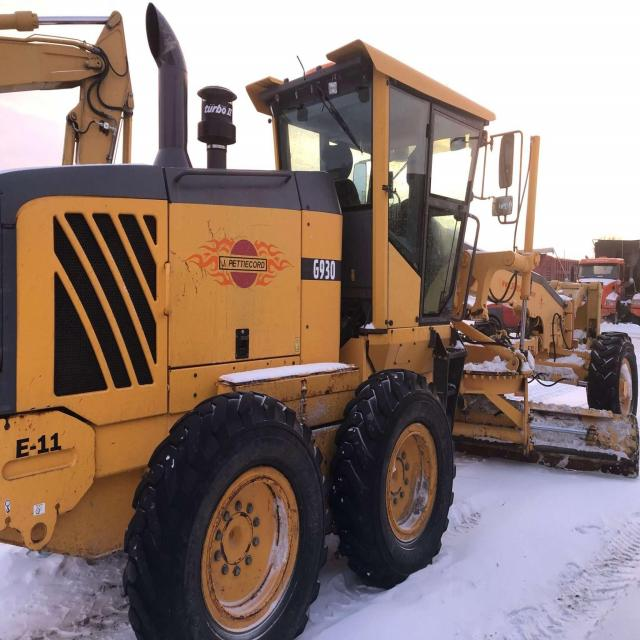Grader: (19, 18, 640, 640)
